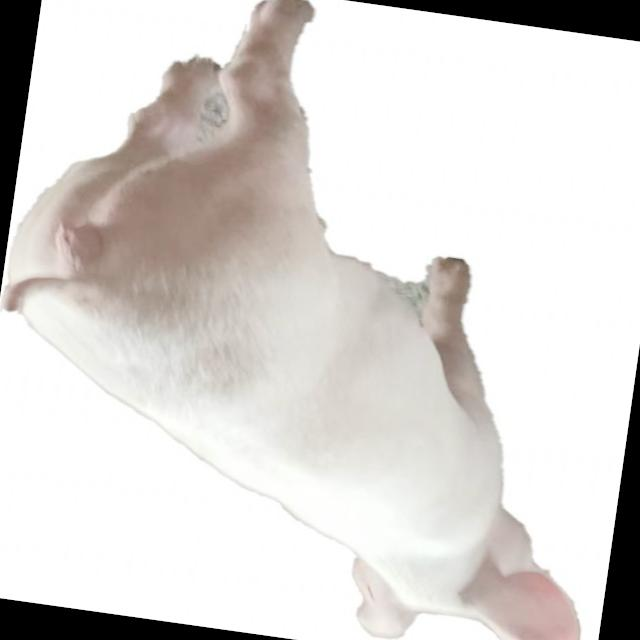pig: (2, 0, 579, 640)
